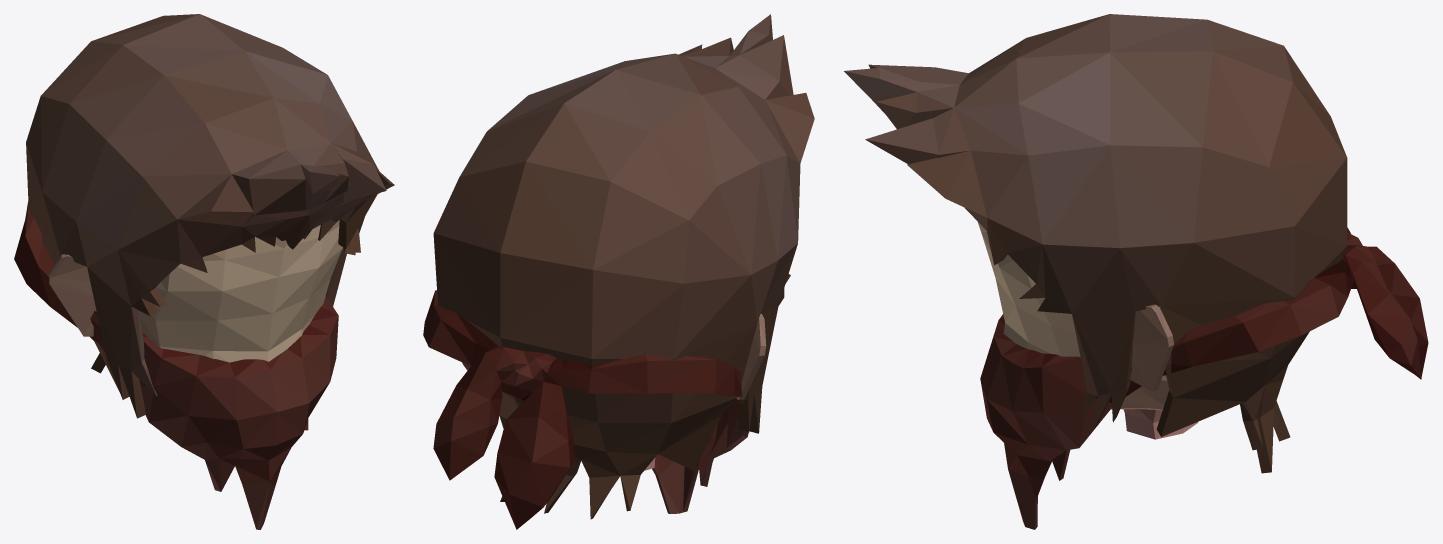
File: helm_lightskin_standard_brown_bandana.fbx
The picture shows the model from 3 angles, left to right: view 1: azimuth 30°, elevation 25°; view 2: azimuth 150°, elevation 25°; view 3: azimuth 270°, elevation 25°; orthographic projection. The views are drawn at different scales.
Parts seen in each view (by area): view 1: helm_lightskin_standard_brown_bandana; view 2: helm_lightskin_standard_brown_bandana; view 3: helm_lightskin_standard_brown_bandana.
Boxes of the visible parts, <box> form: helm_lightskin_standard_brown_bandana: <box>14,14,394,529</box>; helm_lightskin_standard_brown_bandana: <box>423,14,814,529</box>; helm_lightskin_standard_brown_bandana: <box>844,14,1428,529</box>.
Bounding box in the file's own units: 1.13 × 1.66 × 1.8.
